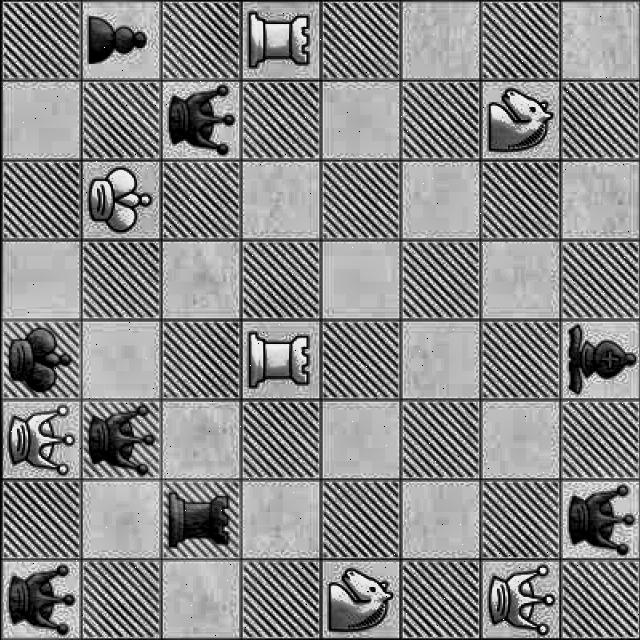black bishop: (558, 324, 636, 399)
black king: (0, 325, 80, 399)
black pawn: (84, 8, 152, 76)
black queen: (0, 561, 84, 640), (82, 402, 164, 479), (560, 483, 640, 557), (166, 82, 240, 157)
black rook: (163, 485, 237, 555)
white king: (80, 167, 160, 240)
white queen: (1, 404, 78, 480), (479, 564, 555, 640)
white rook: (245, 8, 322, 78), (243, 330, 316, 396)
whiteknight: (482, 86, 554, 162), (328, 563, 398, 640)
